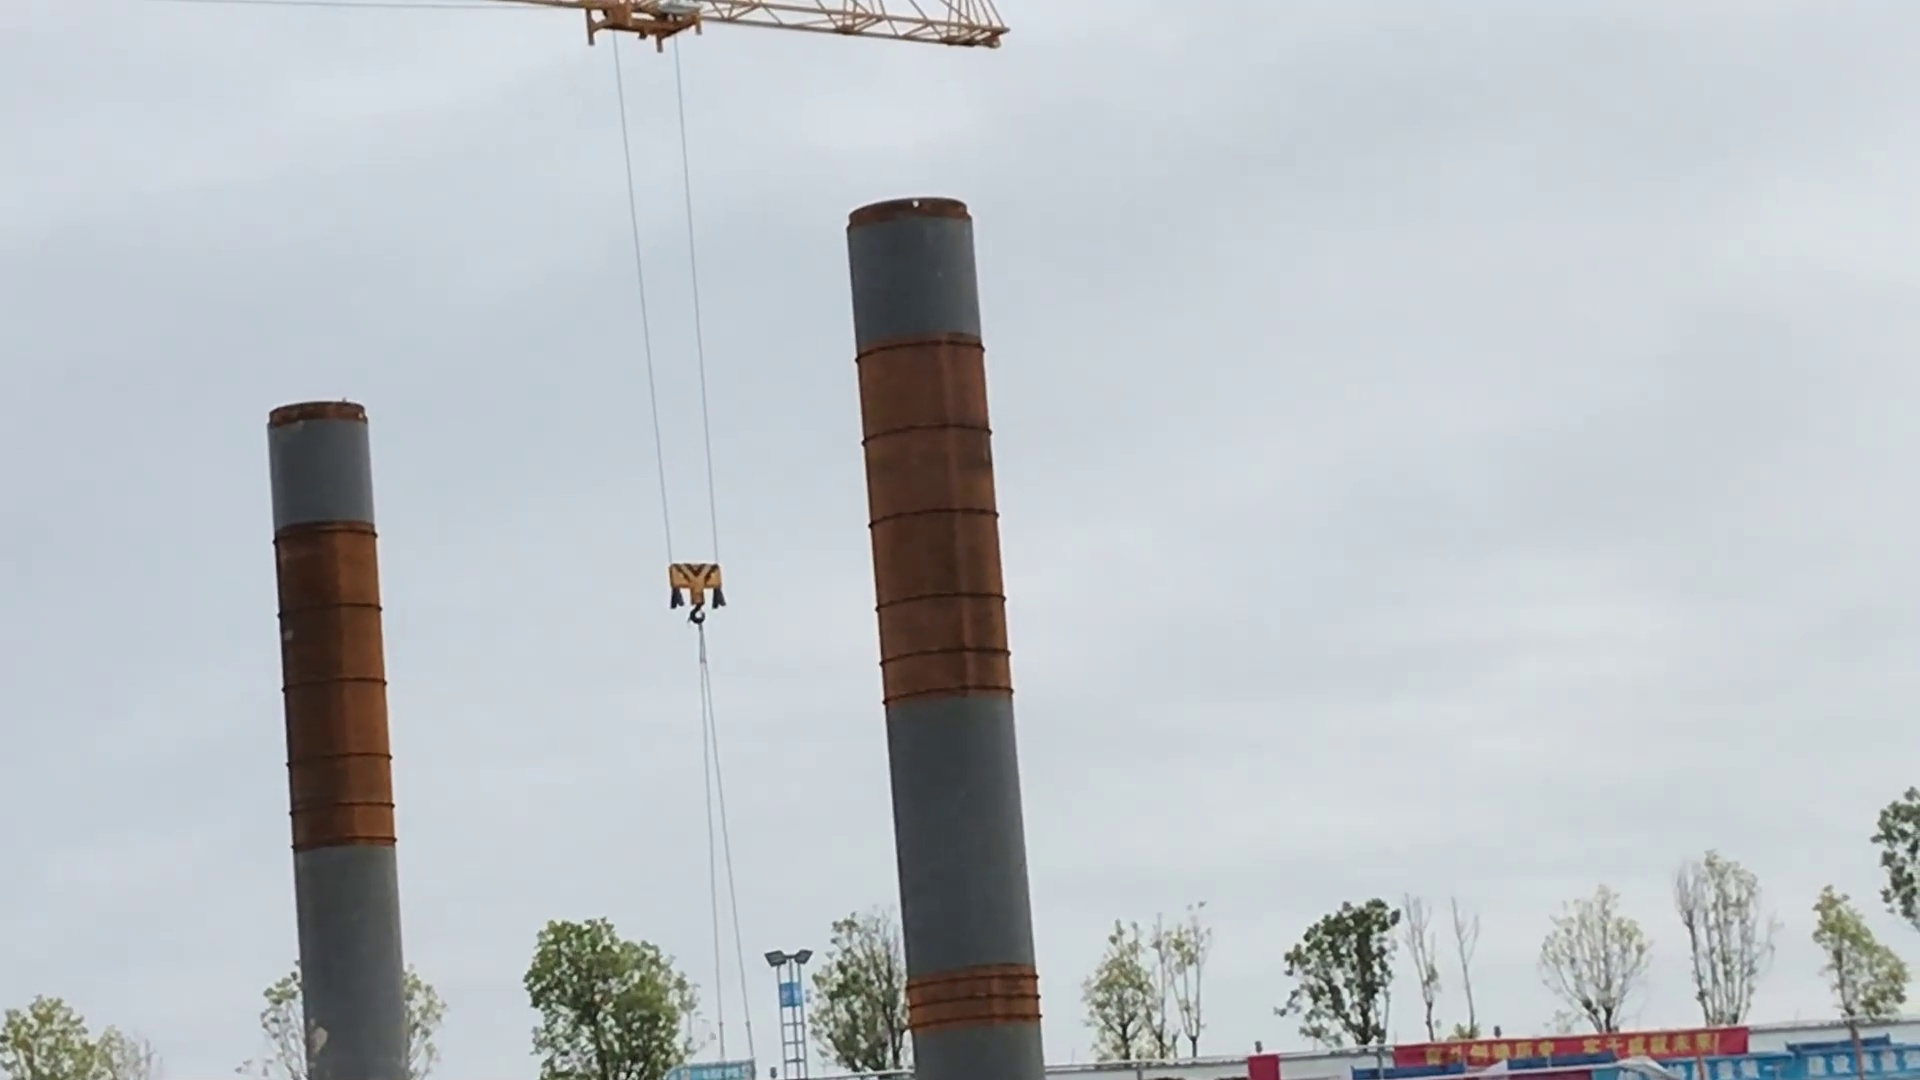hook: (665, 556, 733, 626)
slogan: (1395, 1029, 1747, 1075), (1593, 1047, 1903, 1079)
